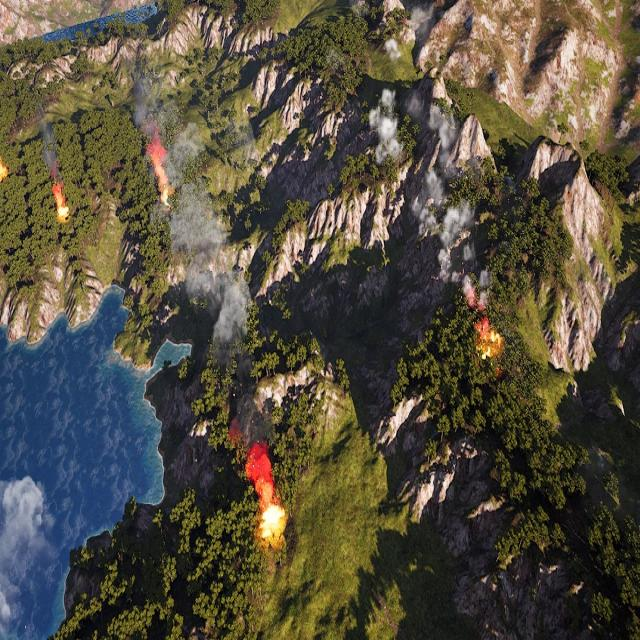fire: (150, 142, 174, 203), (258, 502, 287, 543), (476, 317, 504, 355), (52, 184, 72, 224), (0, 155, 10, 184)
smoke: (127, 84, 251, 371), (366, 76, 494, 311), (0, 469, 50, 624), (225, 392, 278, 495), (39, 116, 60, 187)
